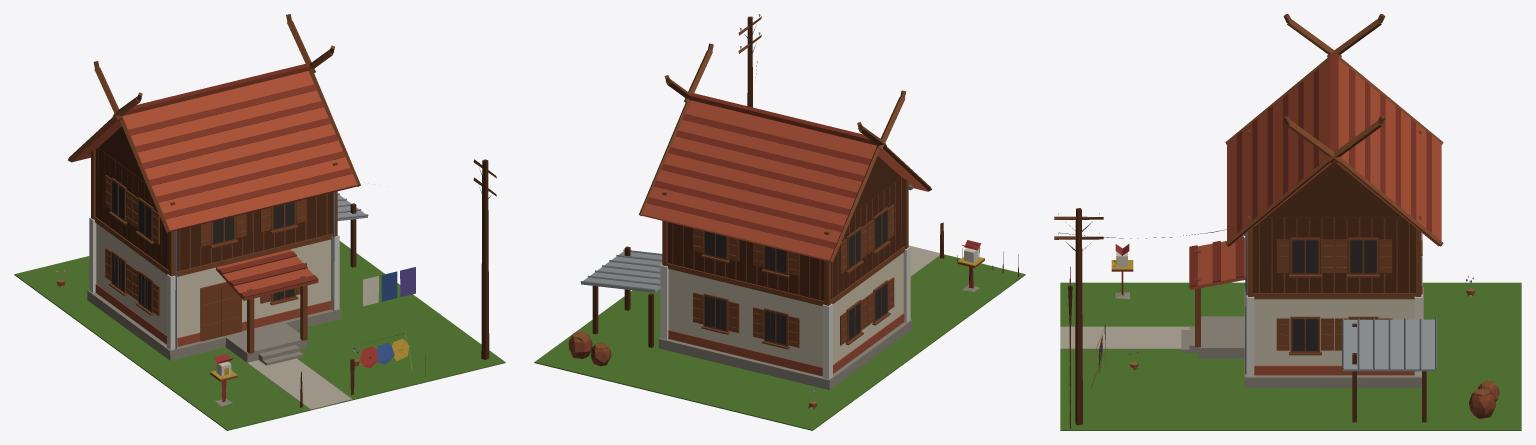
File: house12_1.glb
3 renders of one model, left to right at view 1: azimuth 30°, elevation 25°; view 2: azimuth 150°, elevation 25°; view 3: azimuth 270°, elevation 25°, orthographic. The views are drawn at different scales.
Parts seen in each view (by area): view 1: body, windows; view 2: body, windows; view 3: body, windows.
Part boxes in pixels (box(x1,y1,x2,y2)): body: box(14, 14, 505, 430); windows: box(112, 181, 294, 310); body: box(534, 14, 1025, 430); windows: box(705, 210, 887, 344); body: box(1054, 14, 1521, 430); windows: box(1292, 240, 1376, 350).
Bounding box in the file's own units: 12 × 10.79 × 16.1.
